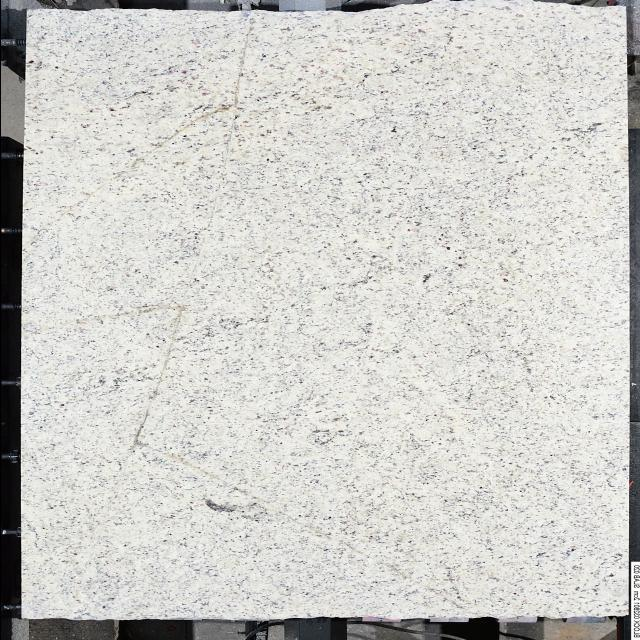chapa: (20, 0, 627, 620)
